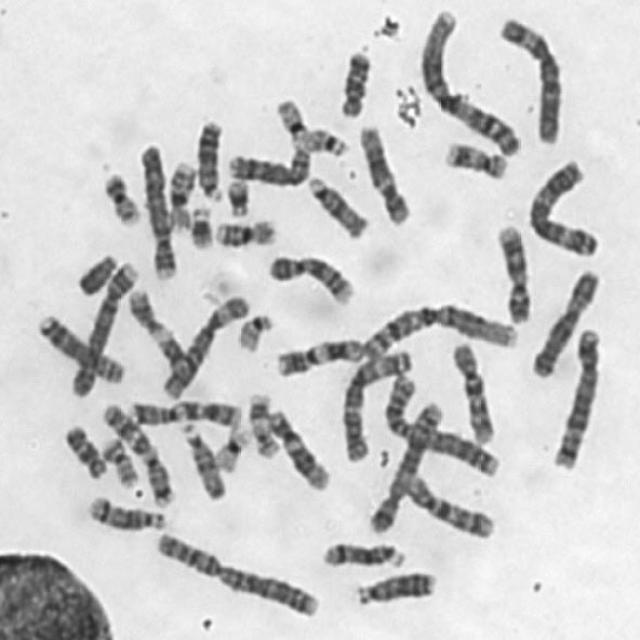A1: (416, 6, 522, 159), (359, 299, 520, 360)
A2: (150, 528, 324, 621), (382, 372, 501, 478)
A3: (336, 346, 415, 463), (524, 156, 601, 258)
B4: (66, 256, 139, 400), (135, 140, 177, 280)
B5: (366, 396, 446, 534), (548, 324, 603, 471)
C10: (399, 471, 496, 542), (448, 338, 496, 446)
C11: (124, 284, 186, 374), (272, 333, 366, 378)
C12: (356, 122, 412, 227), (265, 408, 332, 492)
C6: (158, 290, 251, 400), (496, 13, 566, 147)
C7: (98, 399, 174, 508), (122, 395, 243, 429)
C8: (34, 310, 128, 385), (224, 140, 312, 188)
C9: (265, 250, 356, 306), (494, 220, 533, 324)
D13: (352, 567, 440, 609), (193, 117, 226, 204)
D14: (85, 492, 166, 533), (319, 538, 406, 570)
D15: (304, 172, 370, 240), (178, 418, 227, 501)
E16: (211, 215, 279, 250), (164, 158, 198, 218)
E17: (440, 137, 510, 181), (246, 389, 279, 459)
E18: (61, 420, 107, 480), (336, 46, 372, 119)
F19: (212, 423, 254, 473), (272, 95, 312, 145)
F20: (98, 167, 142, 228), (99, 434, 140, 488)
G21: (187, 202, 215, 251), (223, 176, 252, 218)
G22: (232, 310, 274, 354), (295, 124, 350, 157)
X: (528, 266, 602, 380)
Y: (72, 250, 118, 298)
